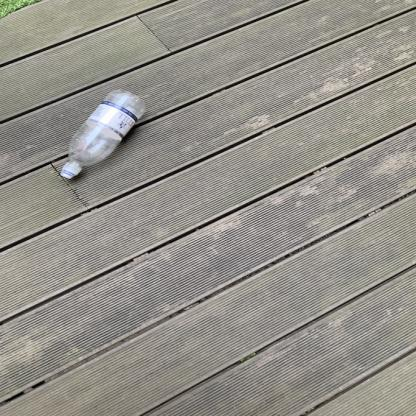trash: (59, 87, 147, 180)
